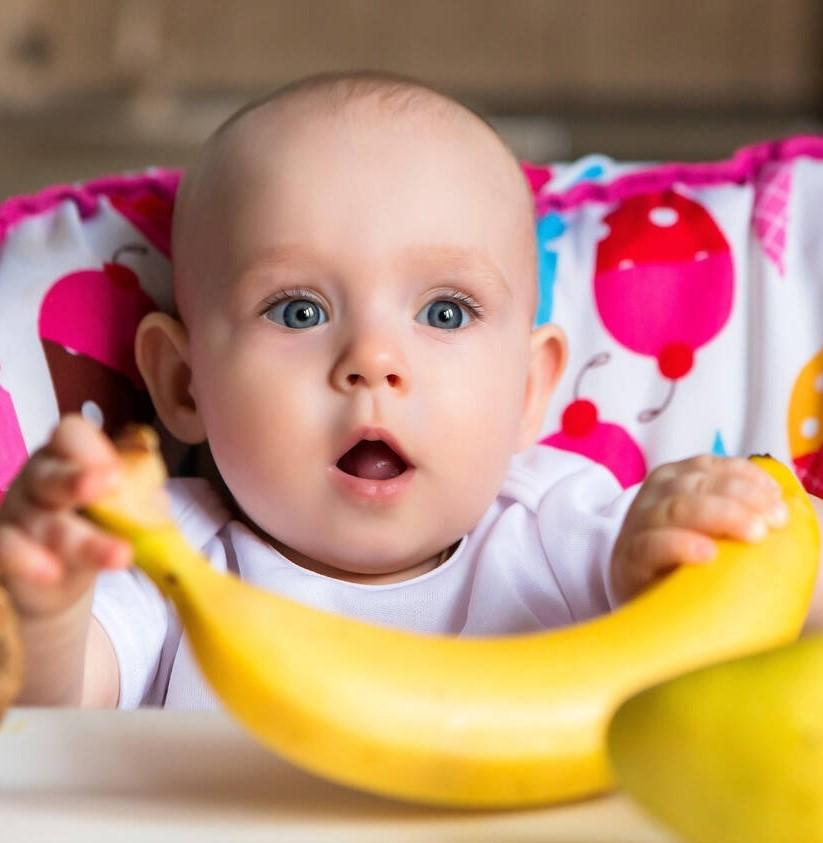Healthy: (118, 73, 638, 593)
